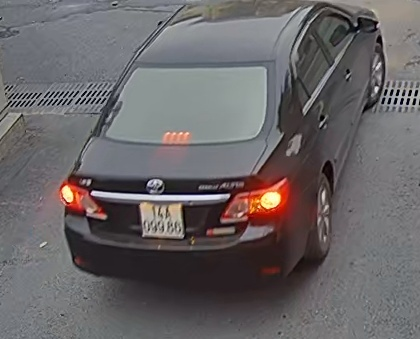vehicle plate: (134, 197, 184, 238)
